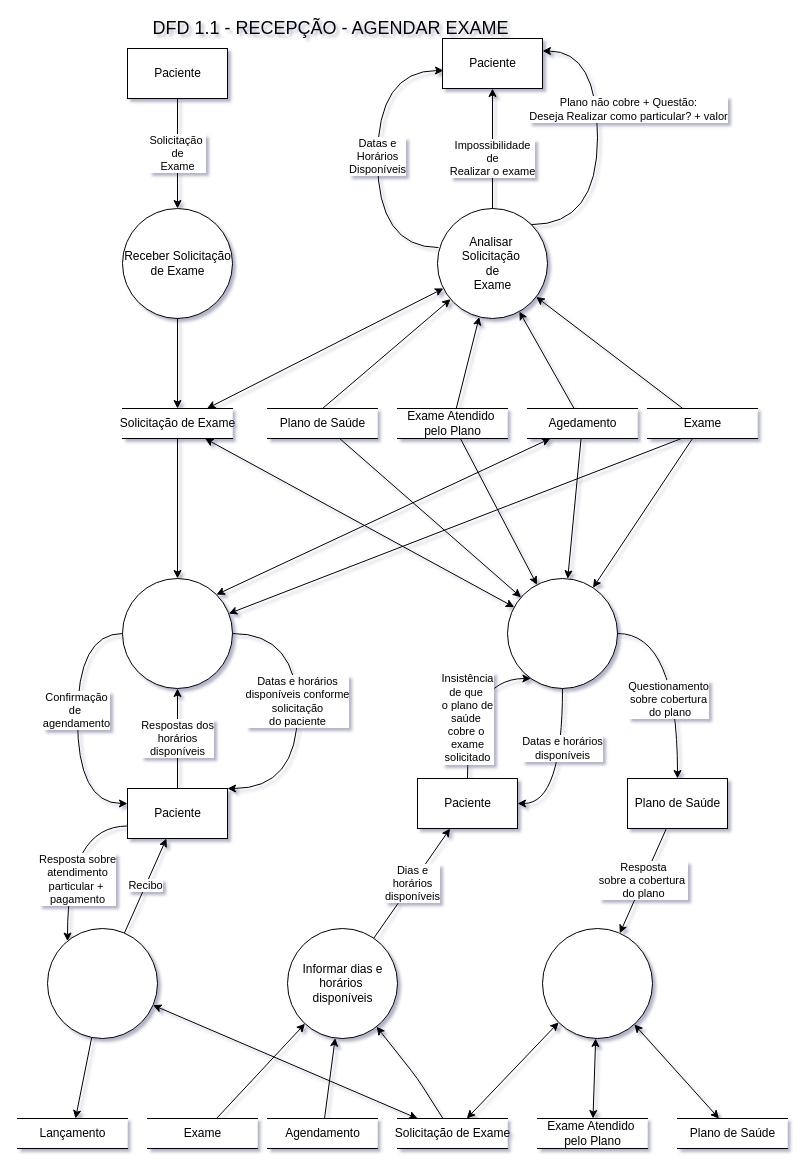
Image size: 811x1172. Some labels were removed from this diagram. The shapes that lost their labels are listed below. From the top down, each one's box as (x1, y1, x2, y2) in pixels, then its label:
(122, 578, 232, 688): Receber Resposta das sugestões de horários disponíveis
(506, 578, 618, 688): Atender insistência de que o plano cobre o exame
(46, 928, 158, 1038): Receber resposta se deseja ser atendido como particular
(542, 928, 652, 1038): Atualizar cobertura do plano de saúde
